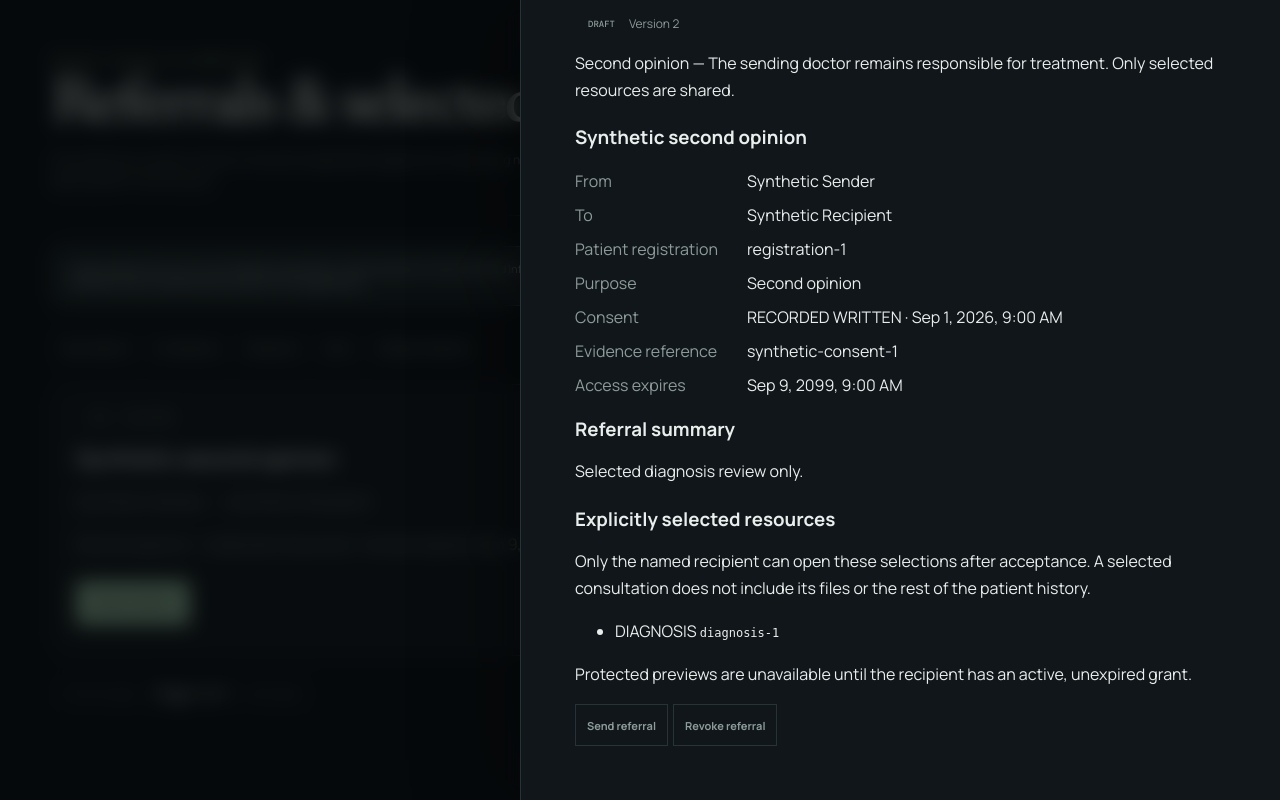
it: persists send through its versioned command
(page scrolled)
Step 1. Click the button "Send referral" → (622, 725), box [575,704,668,746]
(page scrolled)
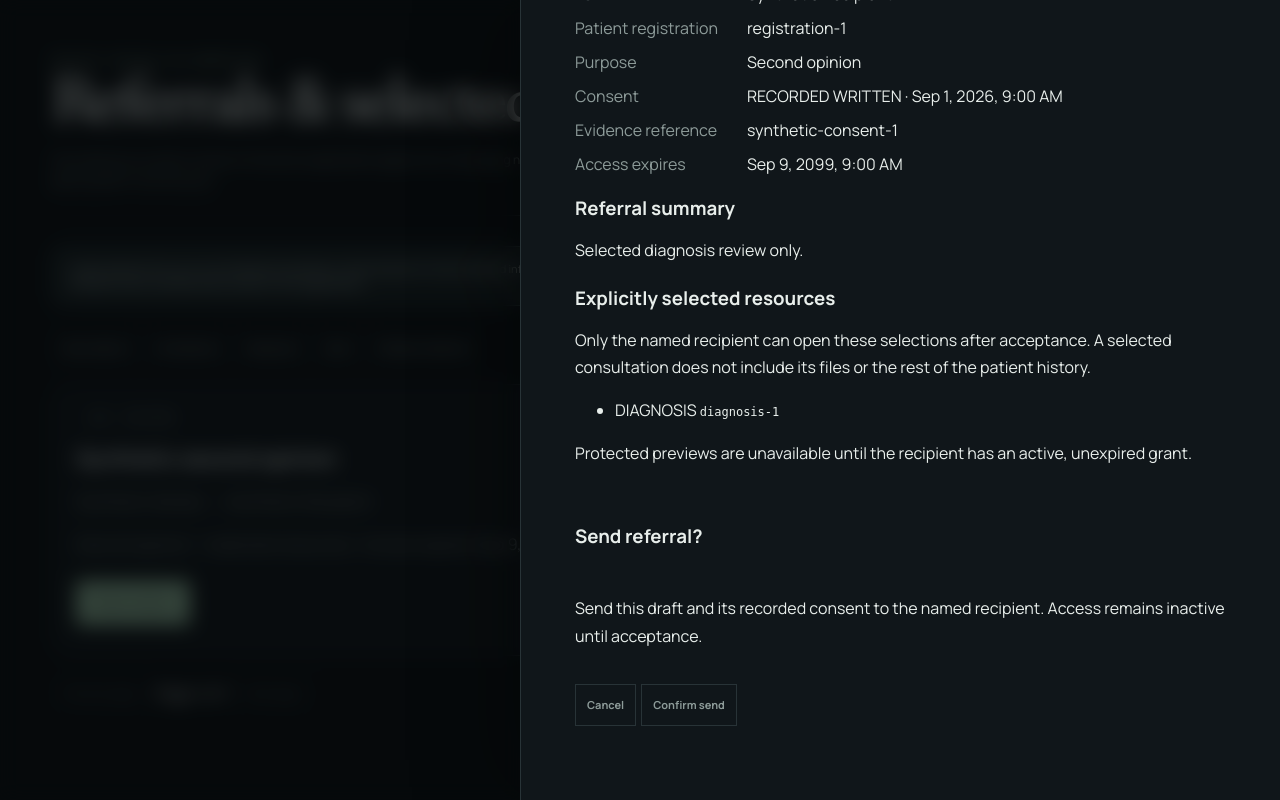
Step 2. Click the button "Confirm send" → (689, 705), box [641,684,737,726]
(page scrolled)
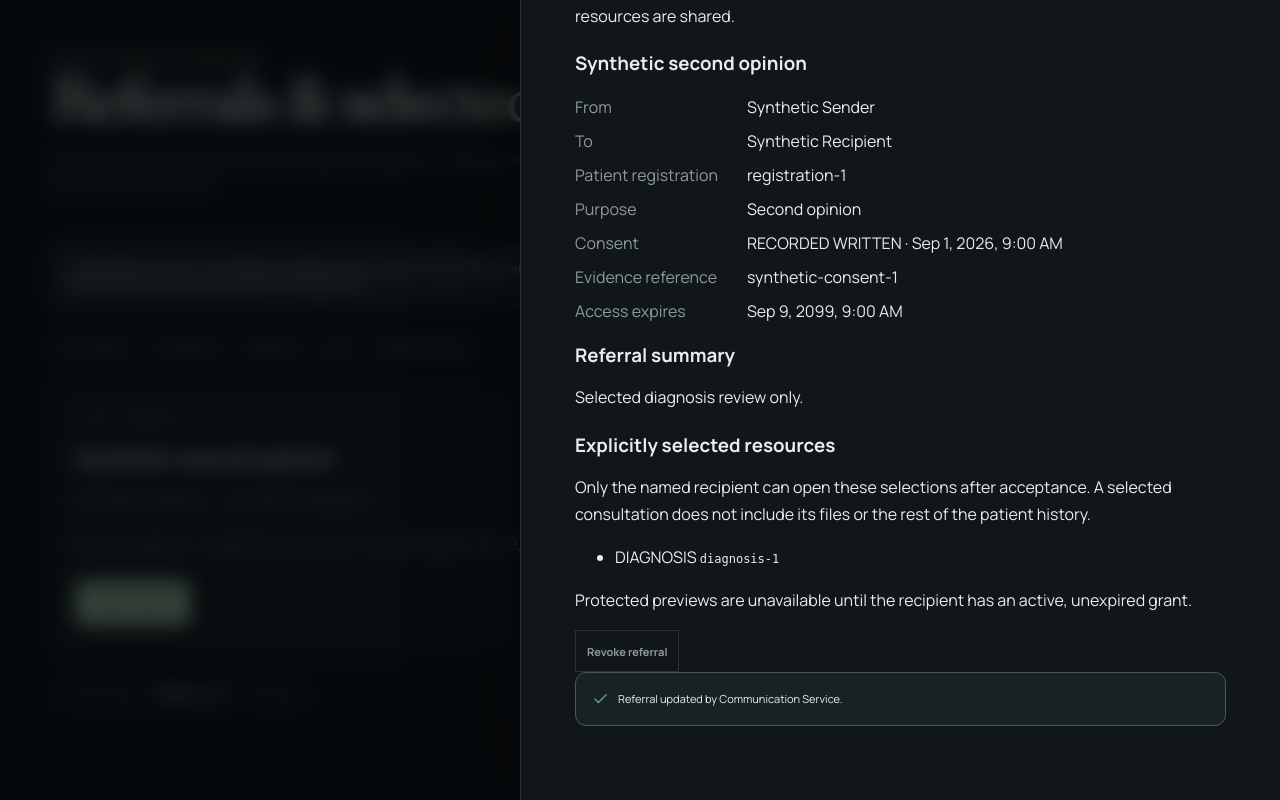
Expected: the text "Referral updated by Communication Service." is shown, [575,672,1226,726]
